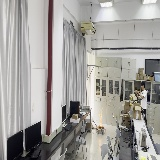fire: (98, 105, 102, 129)
